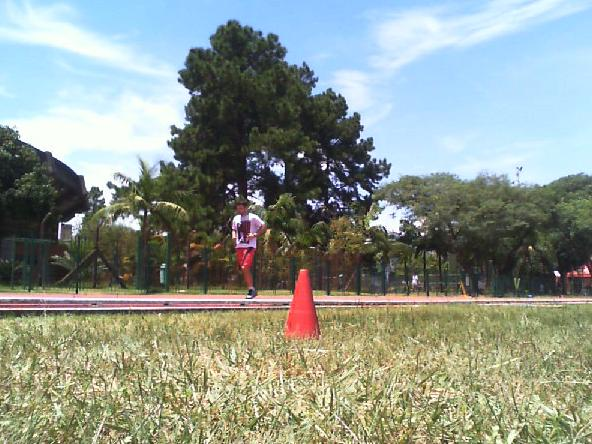0 cone: (281, 270, 322, 341)
